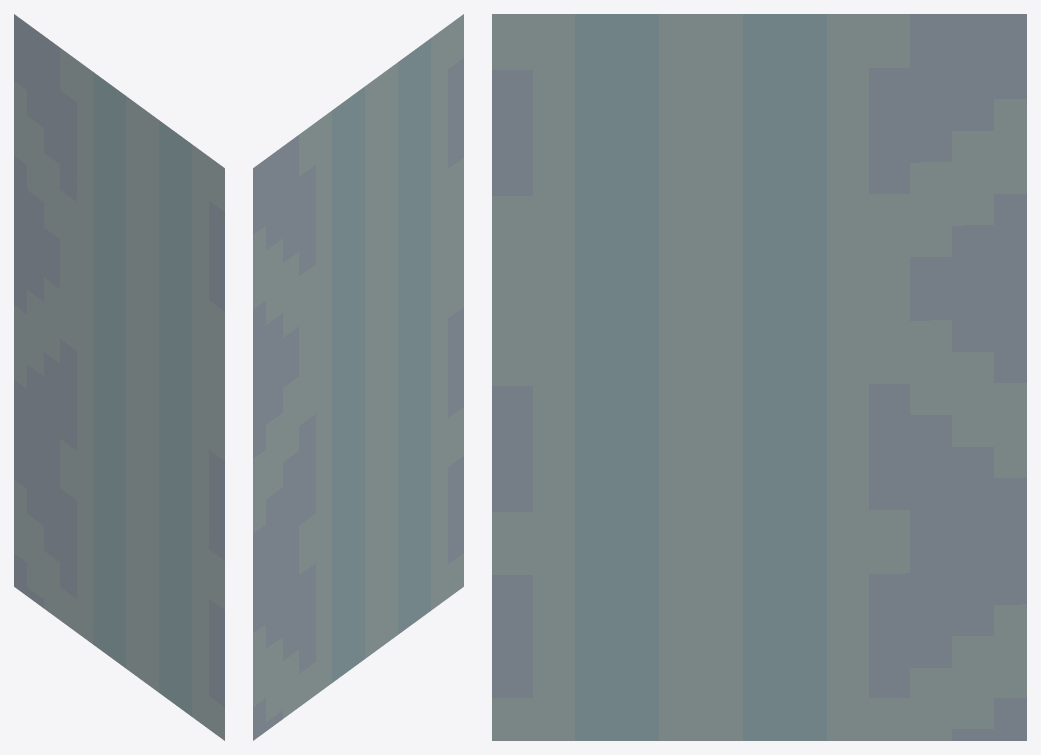
3 renders of one model, left to right at view 1: azimuth 30°, elevation 25°; view 2: azimuth 150°, elevation 25°; view 3: azimuth 270°, elevation 25°, orthographic. The views are drawn at different scales.
Size of the model in its own units: 0 by 1.5 by 1.
Materials: 1 (1 with a texture image).
